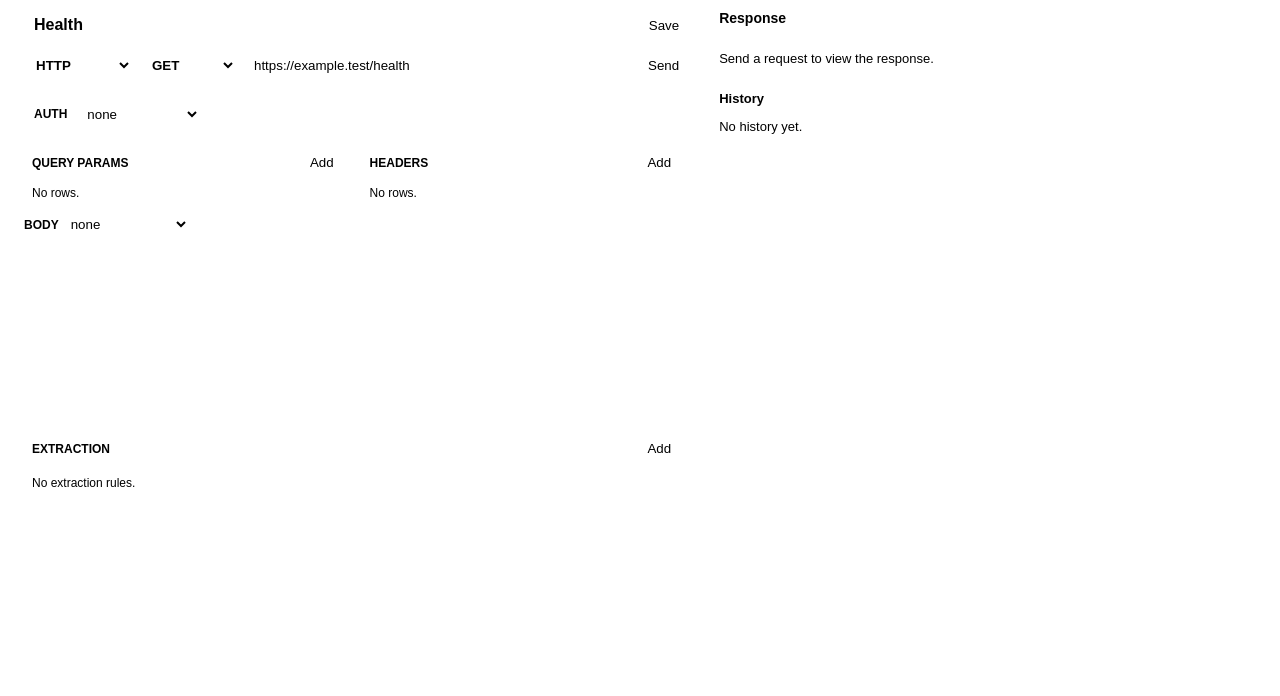
Scenario: RequesterApp › searches within the displayed response body with Ctrl+F
Click the button "Send": (664, 66) [640, 54, 687, 77]
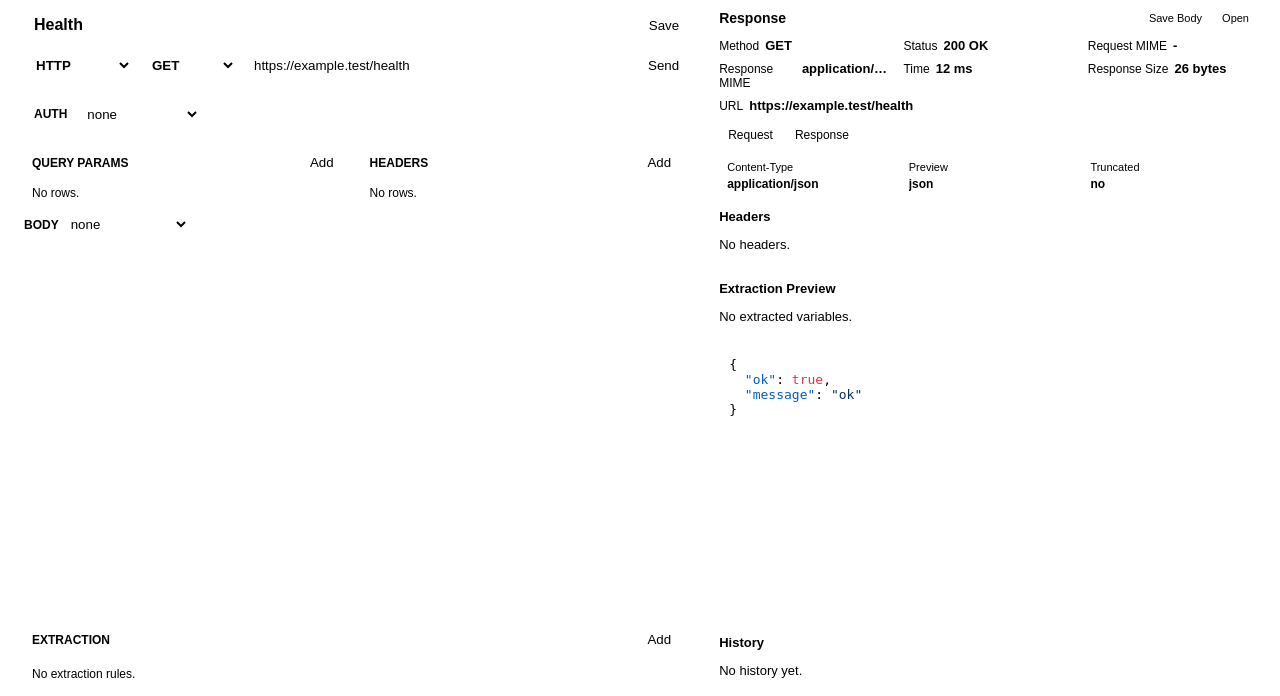
Press f in the field named "Response body code", box [729, 357, 862, 417]
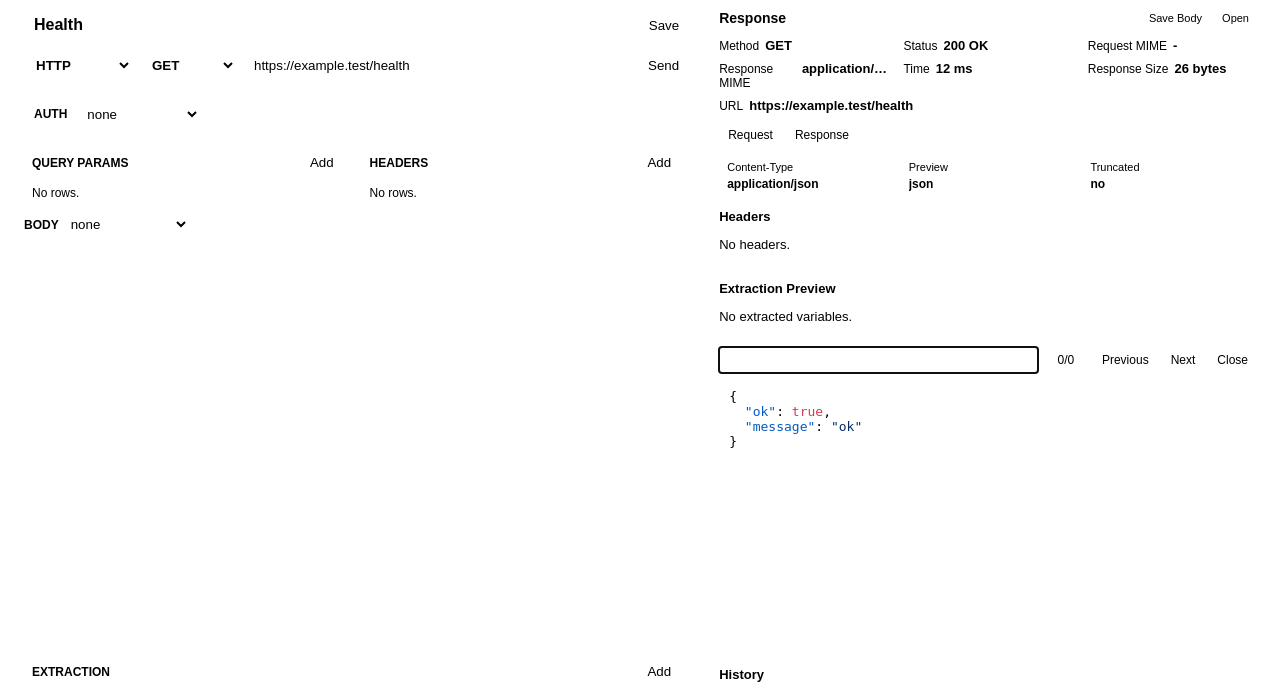
In the field named "Search response body": (879, 360) [719, 347, 1038, 373], type "ok"
(page scrolled)
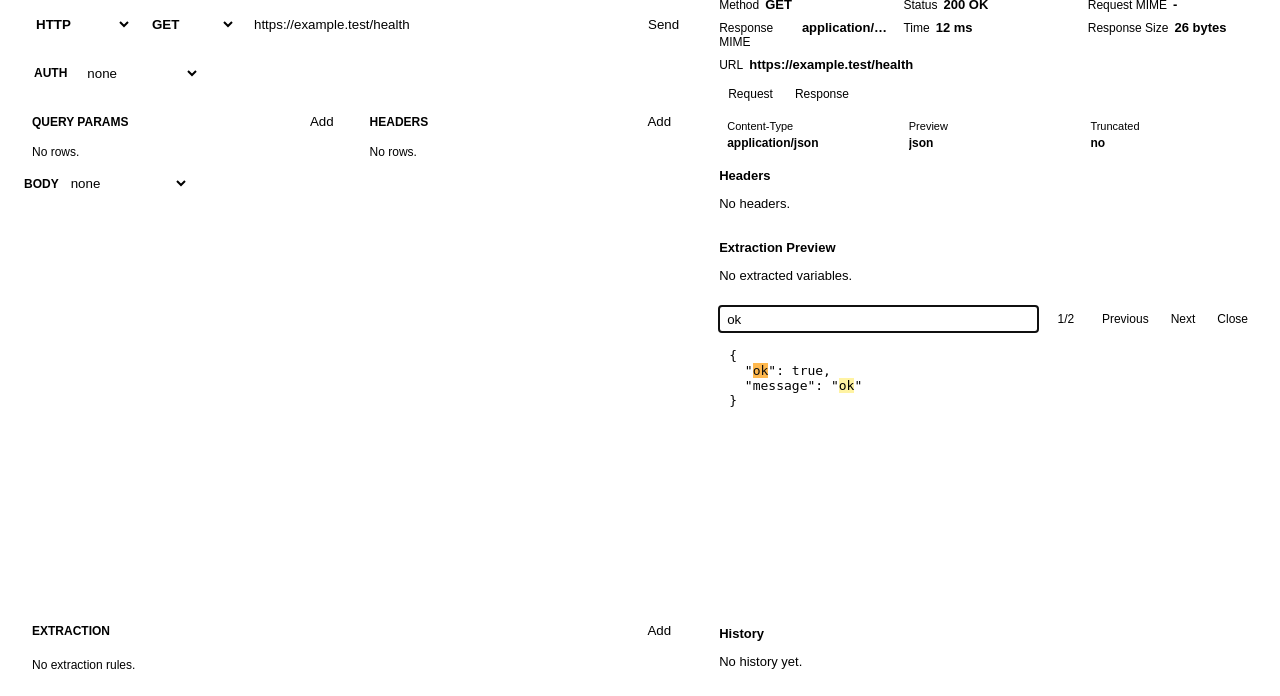
Expected: the text named "Response body search match count" reads "1/2", [1058, 312, 1074, 326]
Press Enter in the field named "Search response body", box [719, 306, 1038, 332]
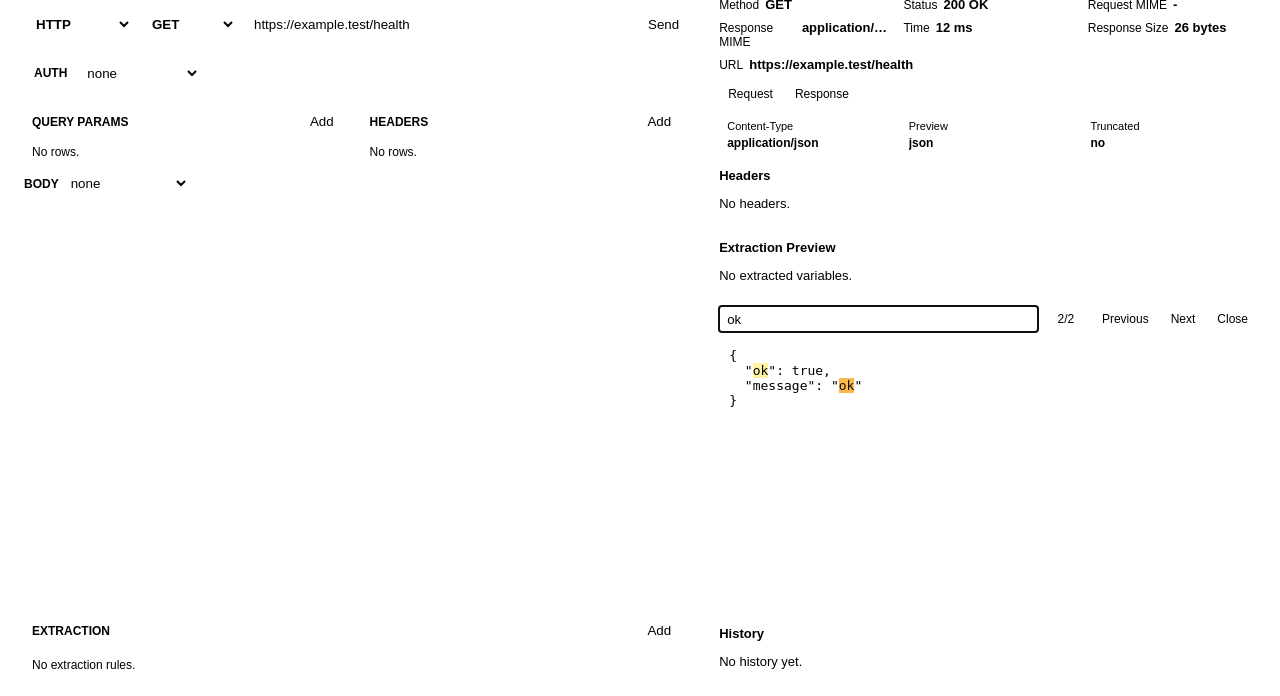
Expected: the text named "Response body search match count" reads "2/2", [1058, 312, 1074, 326]
